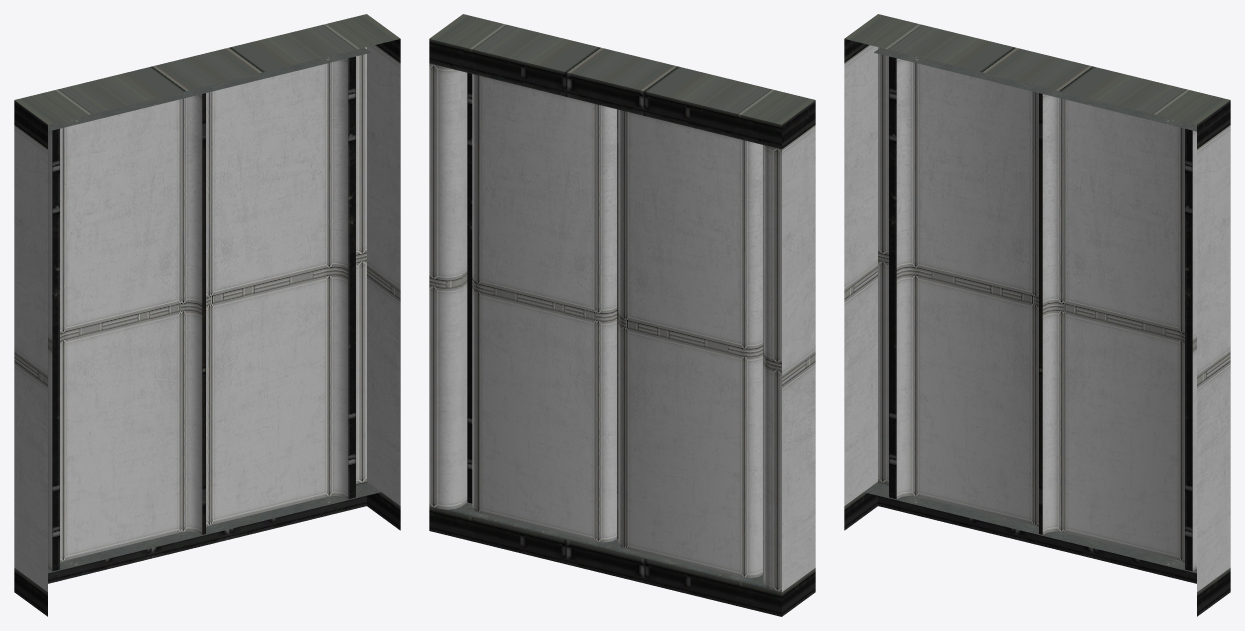
Rendered from Neon_Wall_3x4.FBX.
3 renders of one model, left to right at view 1: azimuth 30°, elevation 25°; view 2: azimuth 150°, elevation 25°; view 3: azimuth 330°, elevation 25°, orthographic.
Parts seen in each view (by area): view 1: Neon_Wall_3x4; view 2: Neon_Wall_3x4; view 3: Neon_Wall_3x4.
Part boxes in pixels (x1,y1,x2,y2): Neon_Wall_3x4: (14, 14, 400, 616); Neon_Wall_3x4: (429, 14, 815, 616); Neon_Wall_3x4: (844, 14, 1230, 616).
Bounding box in the file's own units: 3 × 4 × 0.5001.
